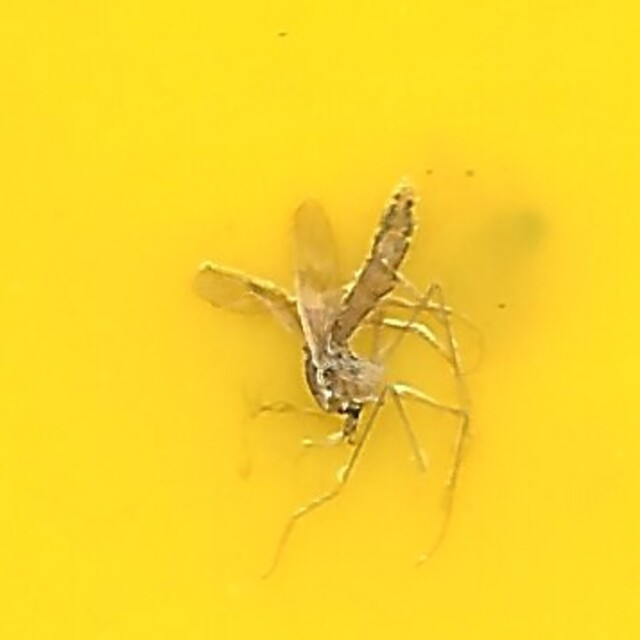Nematocera: (179, 195, 461, 445)
